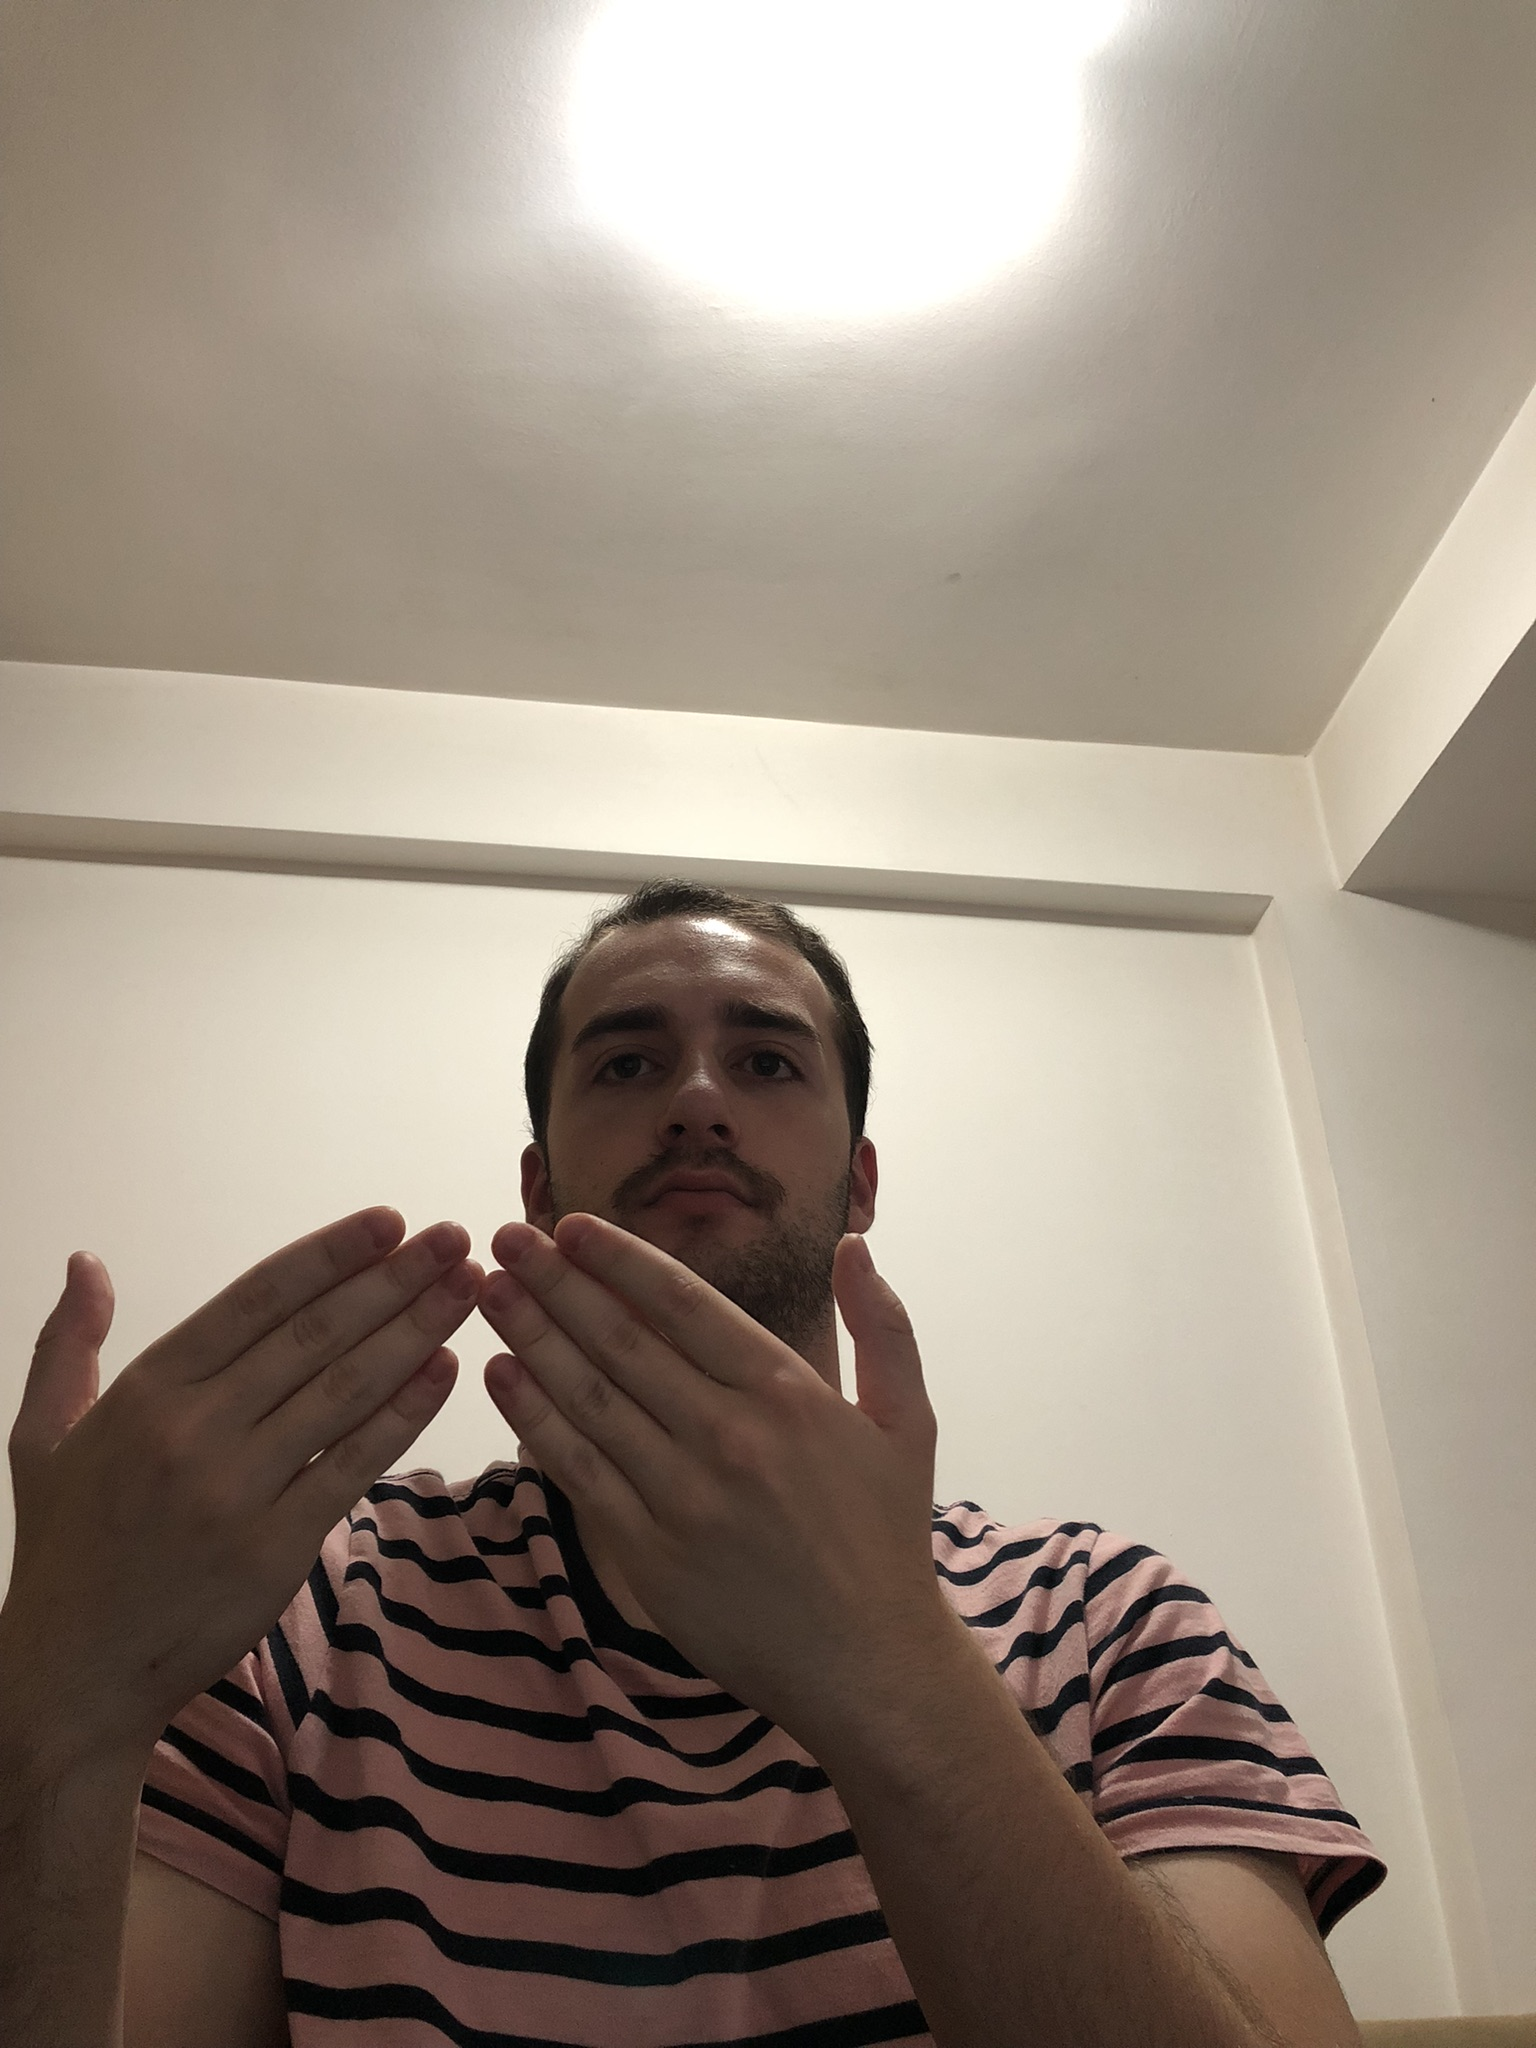Thank You: (2, 1200, 941, 1816)
